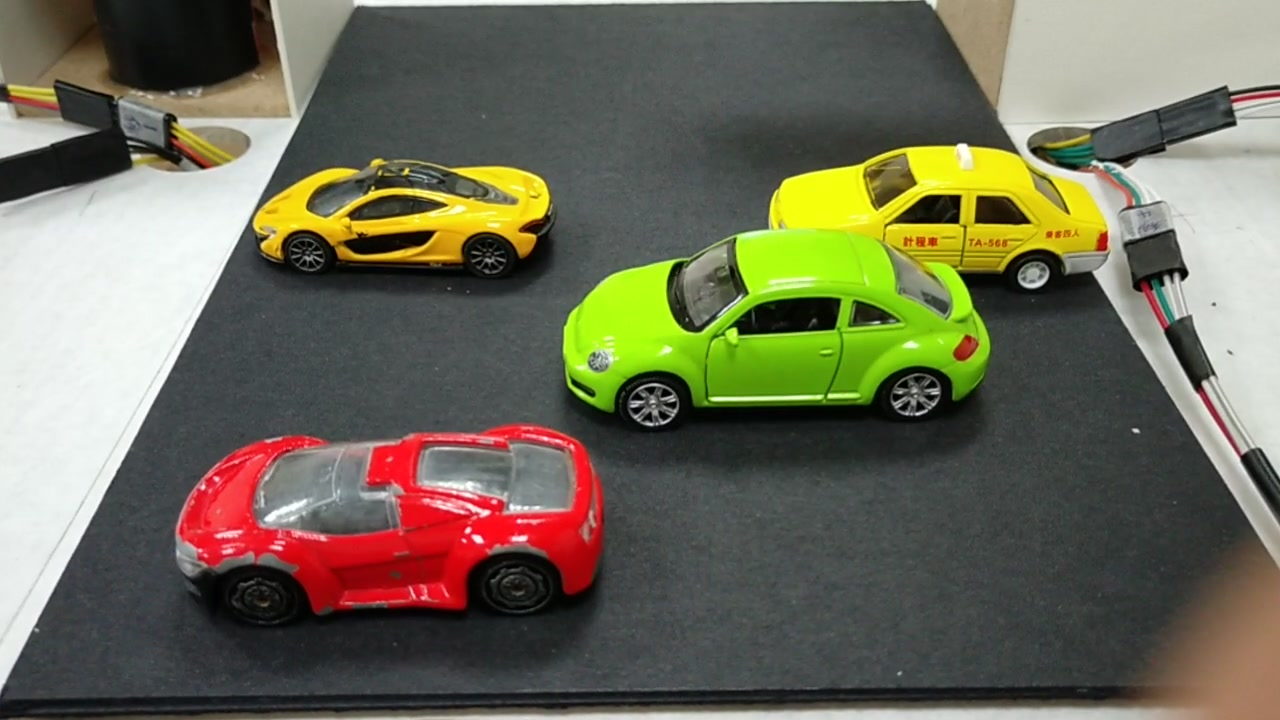car: (190, 427, 612, 624), (558, 224, 985, 412), (762, 143, 1113, 280), (252, 170, 553, 277)
